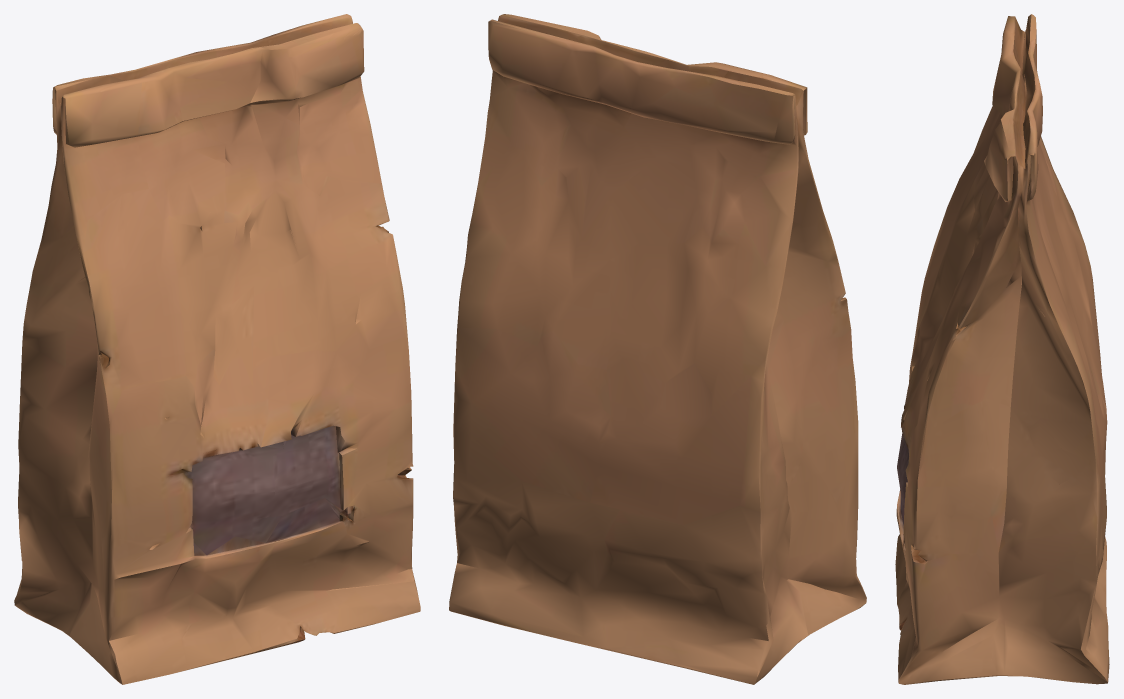
File: seed_bag_kartofel_idle.glb
3 views of the same model, side by side, from view 1: azimuth 30°, elevation 25°; view 2: azimuth 150°, elevation 25°; view 3: azimuth 270°, elevation 25° (orthographic). The views are drawn at different scales.
Parts seen in each view (by area): view 1: tripo_node_928bbfb9-5034-4491-b852-1cd52171bc3b; view 2: tripo_node_928bbfb9-5034-4491-b852-1cd52171bc3b; view 3: tripo_node_928bbfb9-5034-4491-b852-1cd52171bc3b.
Part boxes in pixels (<box>): tripo_node_928bbfb9-5034-4491-b852-1cd52171bc3b: <box>14,14,420,684</box>; tripo_node_928bbfb9-5034-4491-b852-1cd52171bc3b: <box>449,14,866,684</box>; tripo_node_928bbfb9-5034-4491-b852-1cd52171bc3b: <box>895,14,1109,684</box>.
Size of the model in its own units: 0.0822 by 0.14 by 0.051.
Materials: 1 (1 with a texture image).
